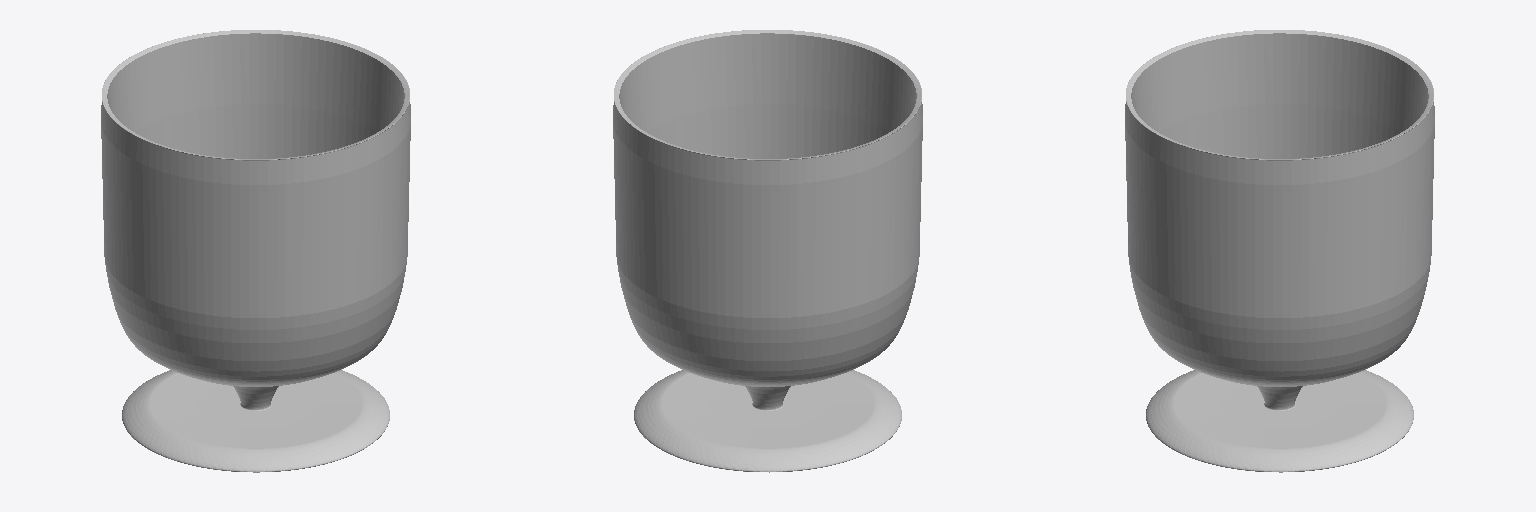
The model's file is Cup_Made_By_Tyro_Smith.obj.
3 views of the same model, side by side, from view 1: azimuth 30°, elevation 25°; view 2: azimuth 150°, elevation 25°; view 3: azimuth 270°, elevation 25° (orthographic).
Visible parts, largest first — view 1: Lathe; view 2: Lathe; view 3: Lathe.
Part boxes in pixels (left/top/right/bottom): Lathe: left=101, top=30, right=410, bottom=472; Lathe: left=613, top=30, right=922, bottom=472; Lathe: left=1125, top=30, right=1434, bottom=472.
Size of the model in its own units: 14.67 by 16.83 by 14.67.